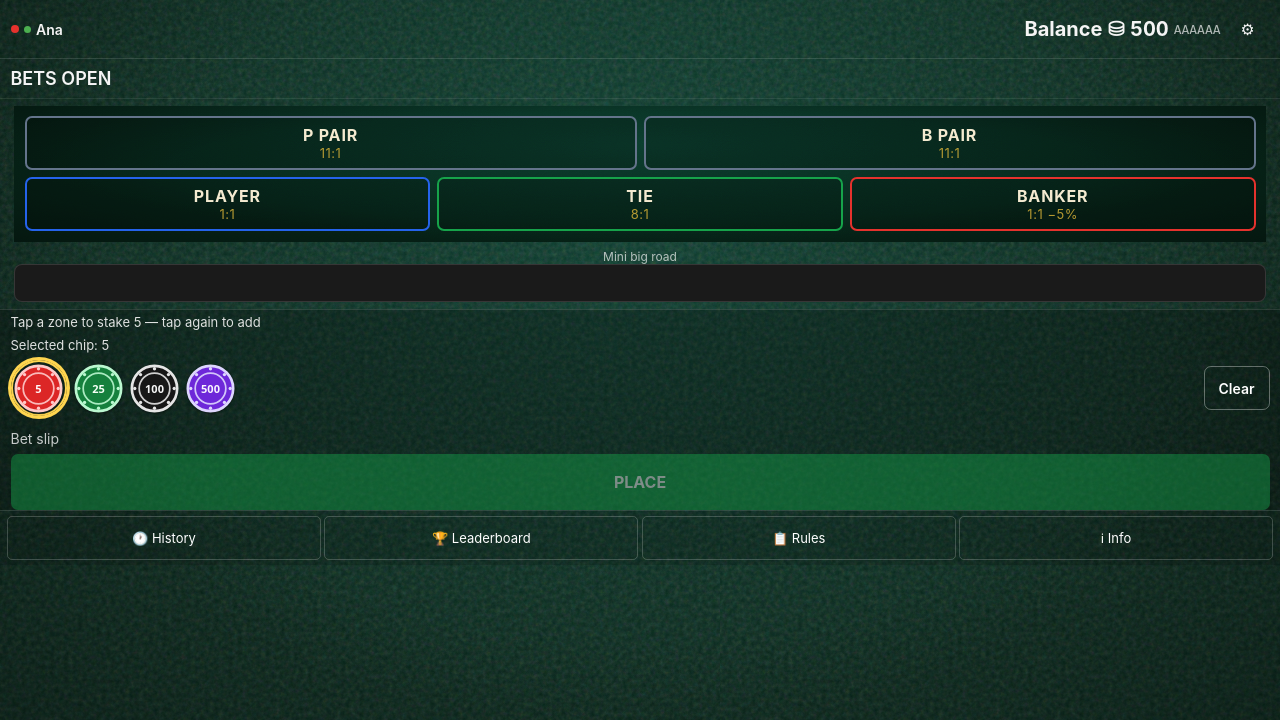
PlayerShell › shows success toast after BET_PLACED is in the log
The width and height of the screenshot is (1280, 720).
Click the button with test id "chip-denom-25" at (98, 388), box [74,364,122,413]
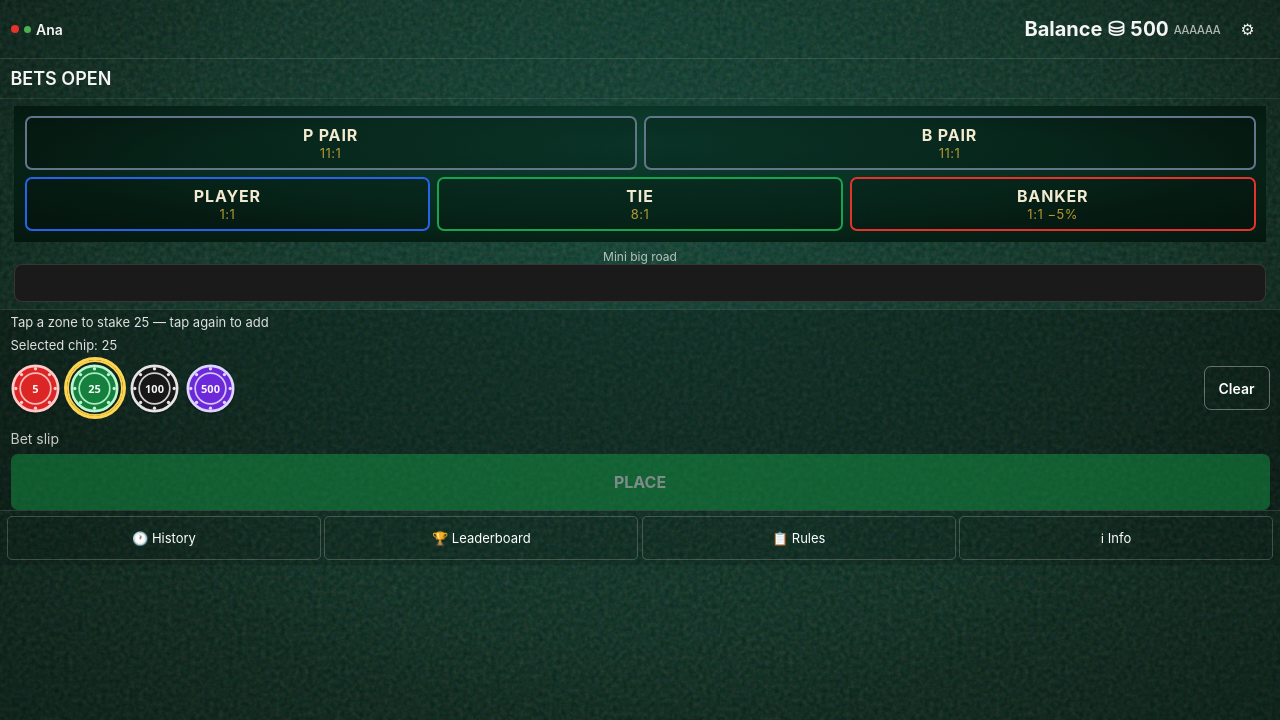
Press the mouse on the button with test id "felt-zone-banker" at (1053, 204), box [850,177,1256,231]
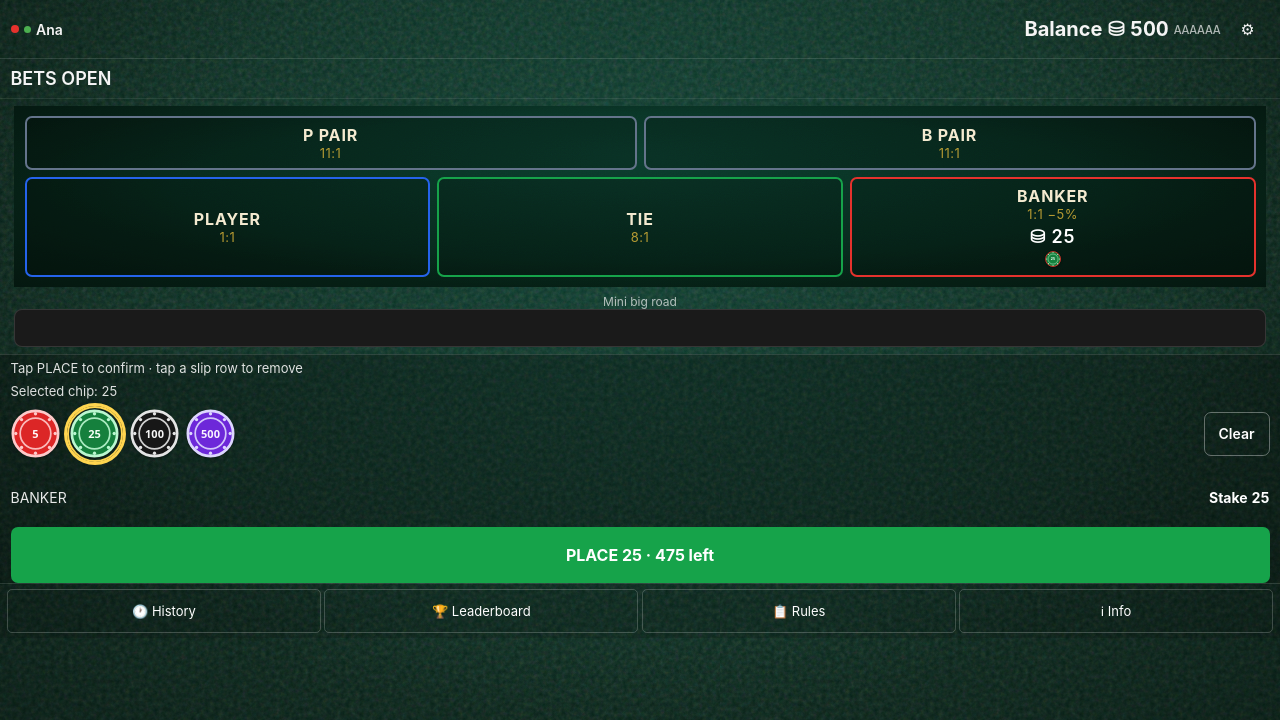
Click the button with test id "bet-slip-place" at (640, 555), box [10,527,1270,583]
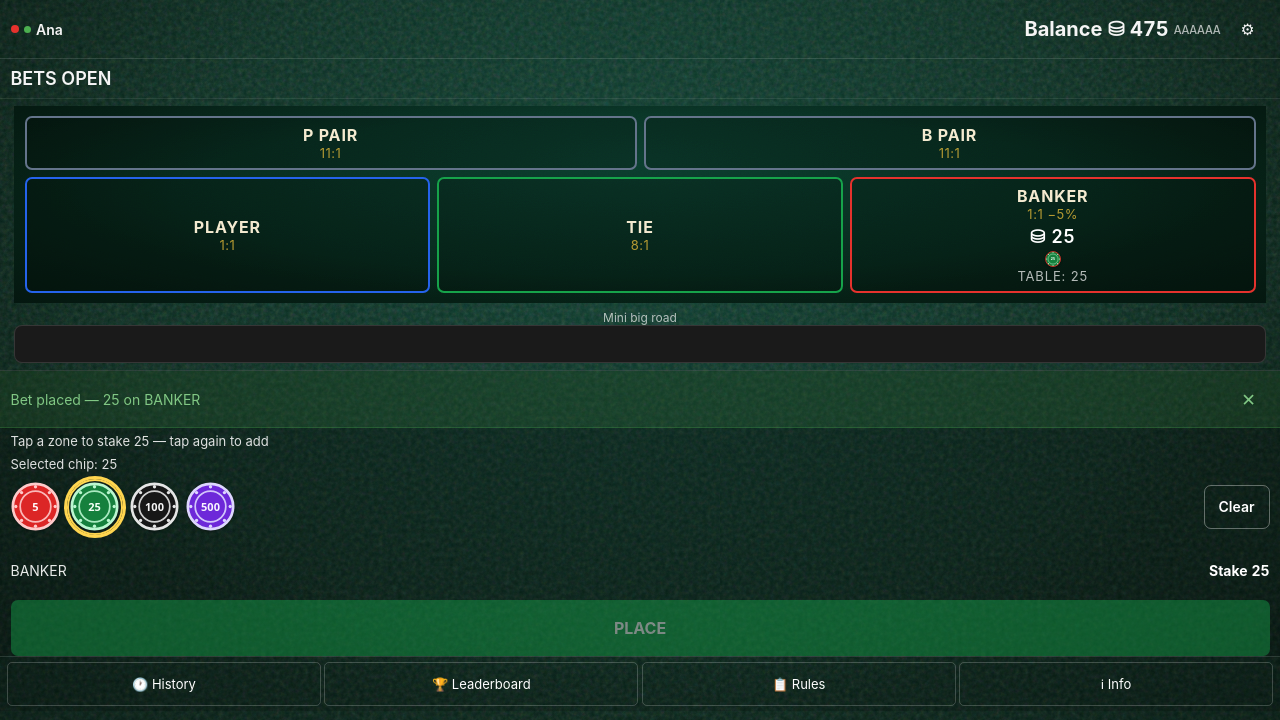
Expected: the message with test id "player-toast" shows "Bet placed — 25 on BANKER", [10,390,200,408]
